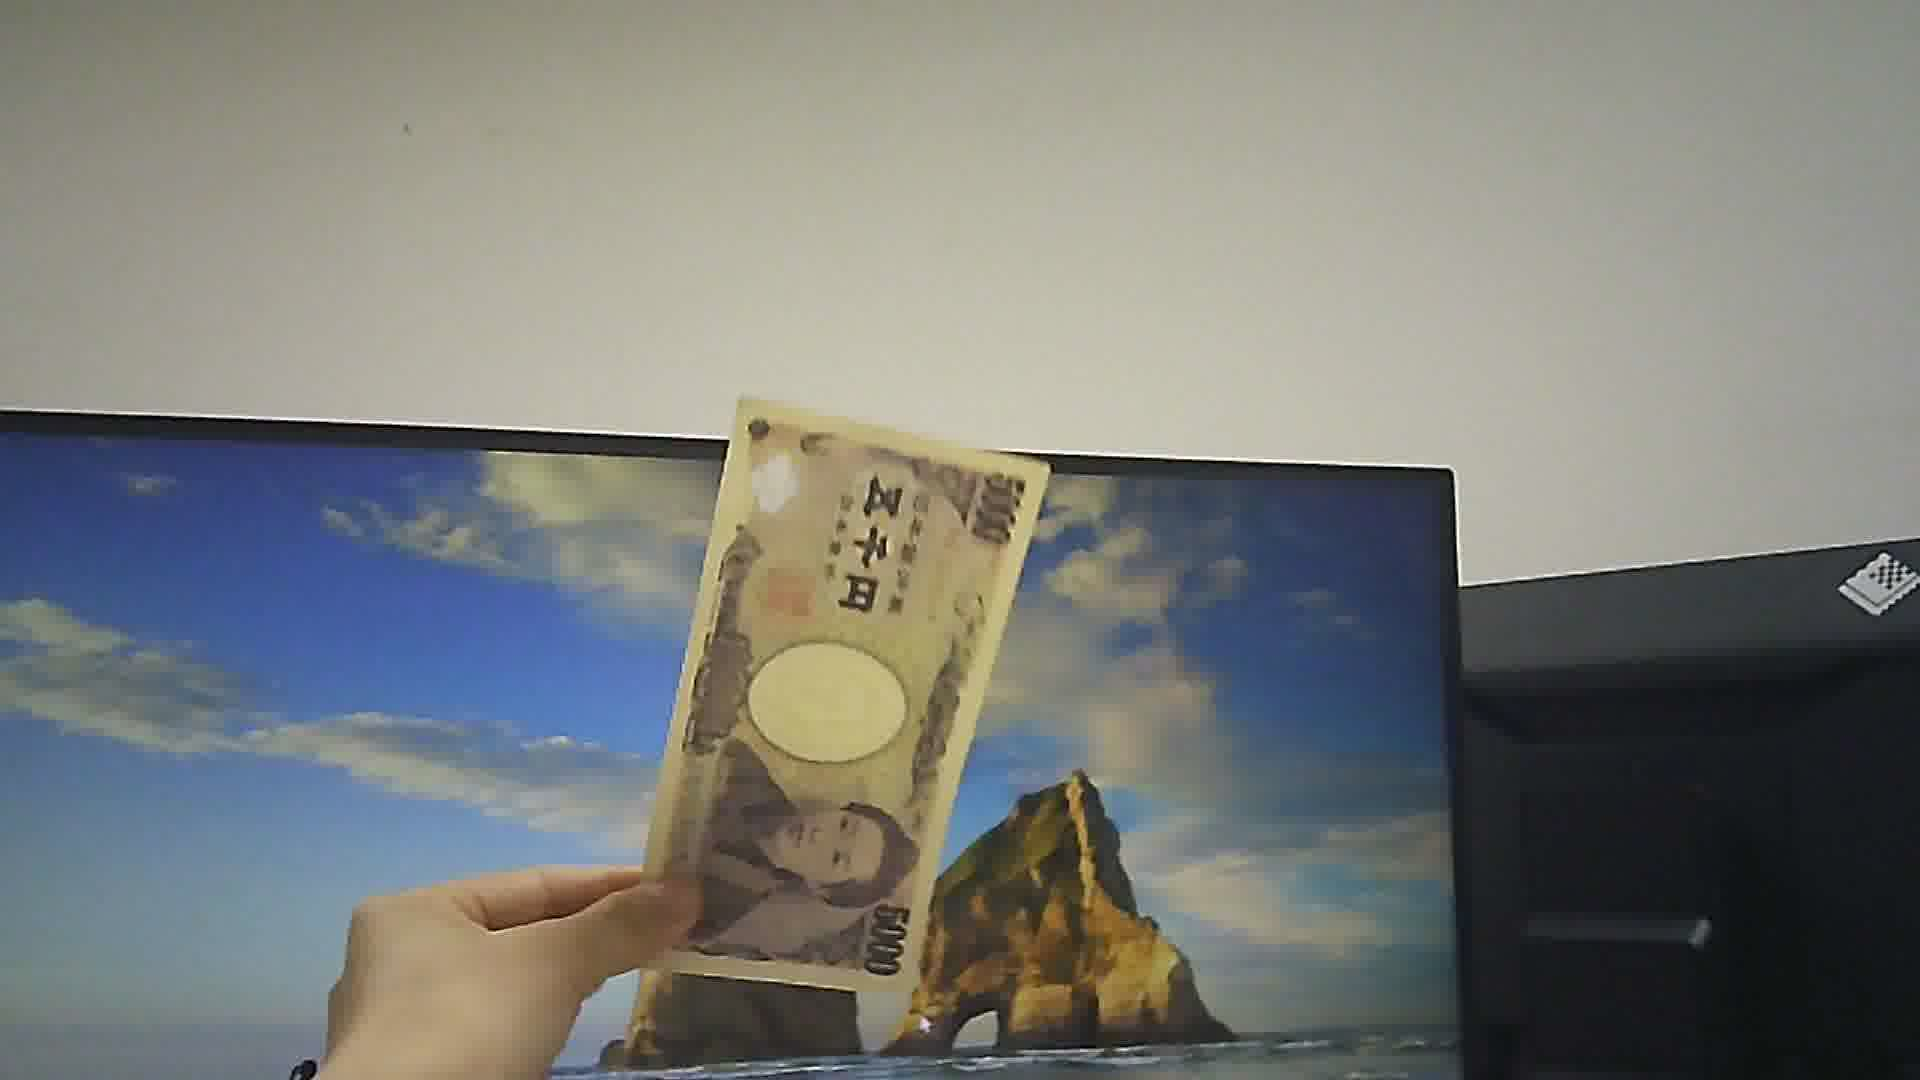5,000 Yen: (651, 386, 1051, 1021)
